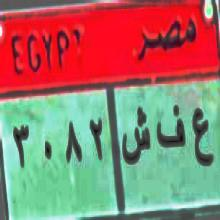0: (40, 134, 58, 170)
2: (88, 113, 106, 166)
3: (13, 117, 30, 171)
8: (64, 115, 82, 172)
ain: (191, 104, 213, 174)
faa: (156, 103, 185, 149)
sheen: (122, 106, 152, 172)
